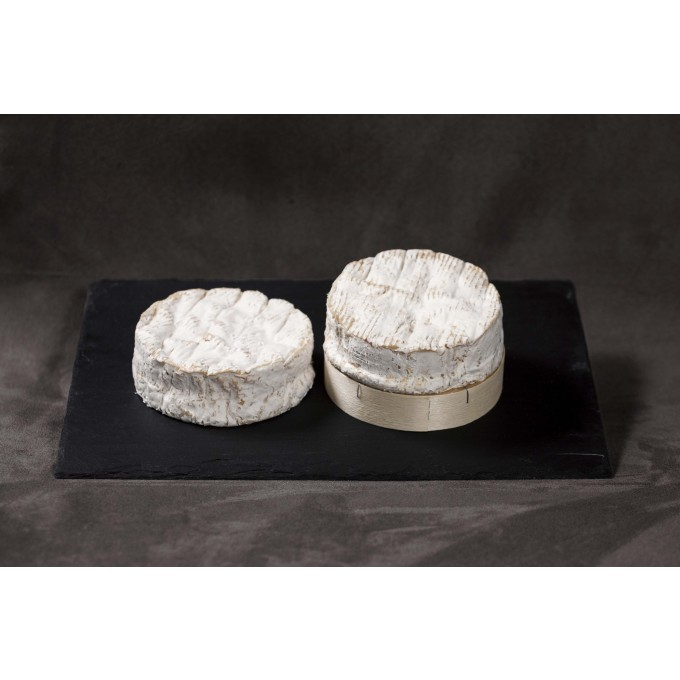camembert: (320, 247, 505, 393), (130, 286, 315, 428)
